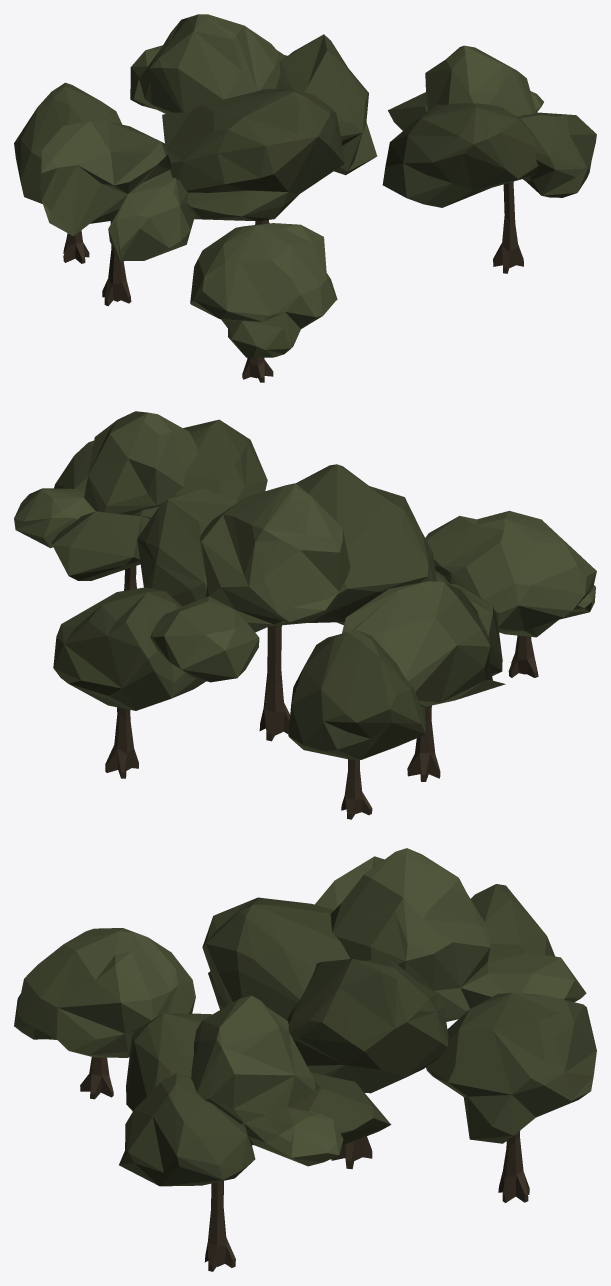
File: SM_Env_Tree_Group_03.fbx
3 renders of one model, top to bottom at view 1: azimuth 30°, elevation 25°; view 2: azimuth 150°, elevation 25°; view 3: azimuth 270°, elevation 25°, orthographic. The views are drawn at different scales.
Parts seen in each view (by area): view 1: SM_Env_Tree_Group_03; view 2: SM_Env_Tree_Group_03; view 3: SM_Env_Tree_Group_03.
Part boxes in pixels (bbox=[...]): SM_Env_Tree_Group_03: bbox=[14, 14, 596, 382]; SM_Env_Tree_Group_03: bbox=[14, 411, 596, 819]; SM_Env_Tree_Group_03: bbox=[14, 848, 596, 1271].
Size of the model in its own units: 1280 by 654 by 1189.
